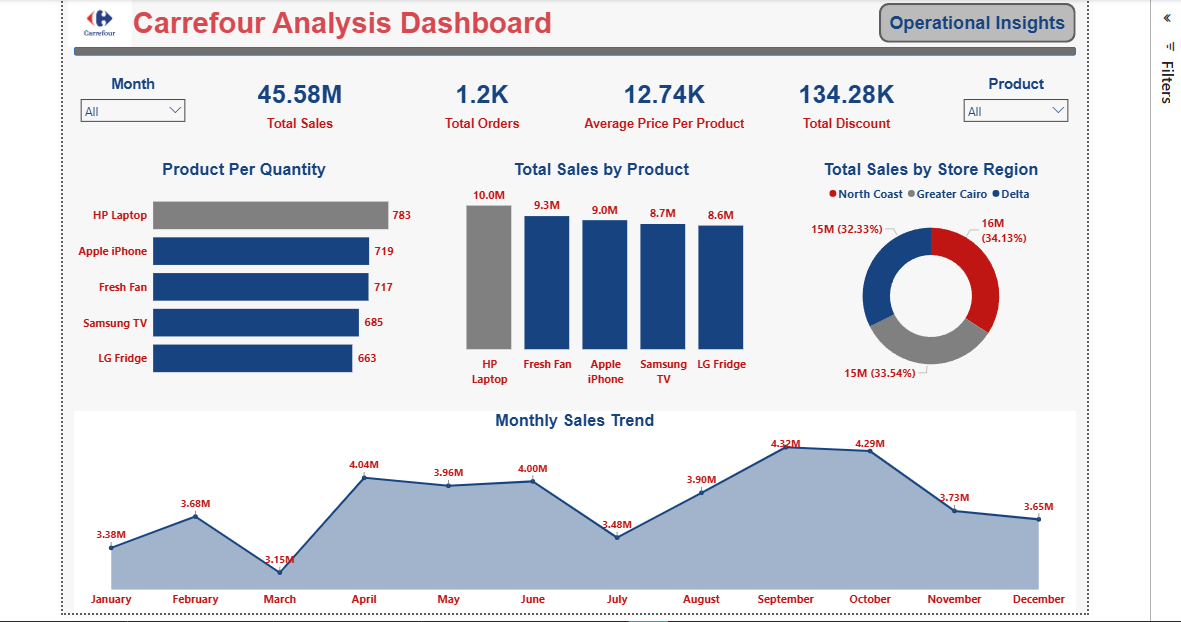

This screenshot's page, from the dashboard's own definition file:
{"tool":"powerbi","page":{"name":"Executive Overview","canvas":[1500,900],"ordinal":0},"visuals":[{"type":"textbox","box":[68.7,6,681.3,77.7],"z":0},{"type":"shape","box":[15.7,70.8,1468.5,12.6],"z":1000},{"type":"cardVisual","fields":{"Data":["Sum(Total_Sales.Total Sales)","Sum(Total_Orders.Total Orders)","Avg(AVG_Price_Per_Products.AVG Price)","Sum(cr.DiscountValue)"]},"box":[199.9,99.2,1100.2,113.3],"z":2000},{"type":"barChart","title":"Product Per Quantity","fields":{"Category":["Total_Products_Ordered.ProductName"],"Y":["Sum(Total_Products_Ordered.Total Quantity sold)"]},"box":[15.7,236.1,499,338.4],"z":3000},{"type":"columnChart","title":" Total Sales by Product","fields":{"Category":["cr.ProductName"],"Y":["All Measures.001_Total_Sales"]},"box":[539.9,236.1,499,338.4],"z":4000},{"type":"donutChart","title":" Total Sales by Store Region","fields":{"Category":["Store_Region_by_Sales.StoreRegion"],"Y":["Sum(Store_Region_by_Sales.Total Sales)"]},"box":[1059.3,236.1,425,338.4],"z":5000},{"type":"slicer","title":"Month","fields":{"Values":["Monthly_Sales_Trend.month_name"]},"box":[15.7,113.3,173.1,83.4],"z":6000},{"type":"slicer","title":"Product","fields":{"Values":["Total_Products_Ordered.ProductName"]},"box":[1311.1,113.3,173.1,83.4],"z":7000},{"type":"image","box":[6,0,95.6,70.2],"z":8000},{"type":"actionButton","box":[1196.7,6,288.3,58.3],"z":9000},{"type":"lineChart","title":"Monthly Sales Trend","fields":{"Category":["cr.OrderDate.Variation.Date Hierarchy.Month"],"Y":["All Measures.001_Total_Sales"]},"box":[16.4,603.6,1468.6,295.8],"z":10000}]}

Visuals, with their boxes on the page's 1500x900 design canvas (x1, y1, x2, y2). These are canvas units, not pixel positions in the 1181x622 screenshot, which may show the page scaled, cropped or inside an application window:
textbox: bbox=[69, 6, 750, 84]
shape: bbox=[16, 71, 1484, 83]
cardVisual - Sum(Total_Sales.Total Sales) x Sum(Total_Orders.Total Orders): bbox=[200, 99, 1300, 212]
"Product Per Quantity" barChart: bbox=[16, 236, 515, 574]
" Total Sales by Product" columnChart: bbox=[540, 236, 1039, 574]
" Total Sales by Store Region" donutChart: bbox=[1059, 236, 1484, 574]
"Month" slicer: bbox=[16, 113, 189, 197]
"Product" slicer: bbox=[1311, 113, 1484, 197]
image: bbox=[6, 0, 102, 70]
actionButton: bbox=[1197, 6, 1485, 64]
"Monthly Sales Trend" lineChart: bbox=[16, 604, 1485, 899]
